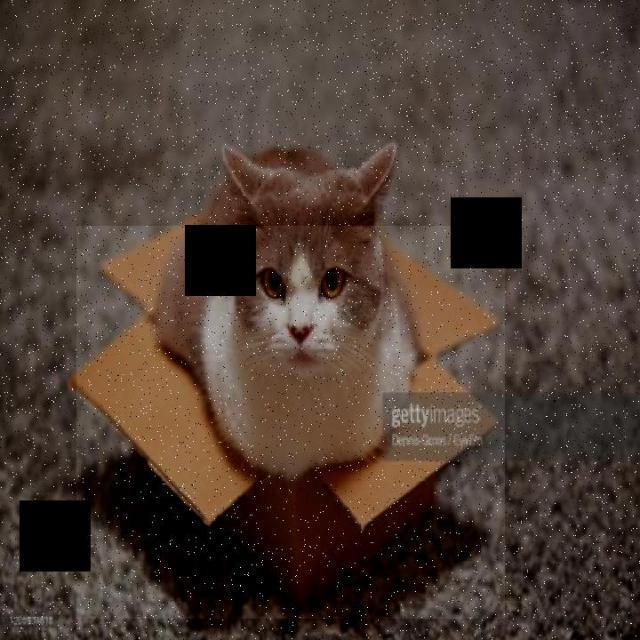box: (76, 226, 505, 618)
